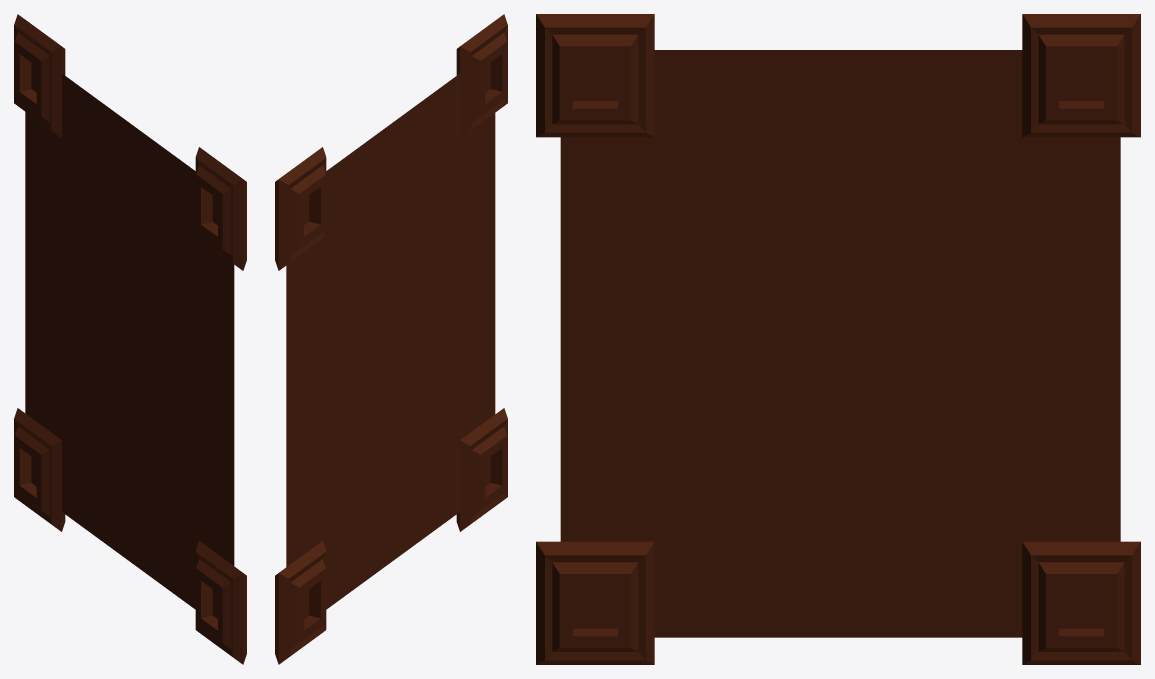
Rendered from bridge_1.fbx.
3 renders of one model, left to right at view 1: azimuth 30°, elevation 25°; view 2: azimuth 150°, elevation 25°; view 3: azimuth 270°, elevation 25°, orthographic. The views are drawn at different scales.
Visible parts, largest first — view 1: b1; view 2: b1; view 3: b1.
Part boxes in pixels (left/top/right/bottom): b1: left=14, top=14, right=246, bottom=664; b1: left=275, top=14, right=507, bottom=664; b1: left=536, top=14, right=1140, bottom=664.
Size of the model in its own units: 0.5381 by 10.62 by 8.94.
